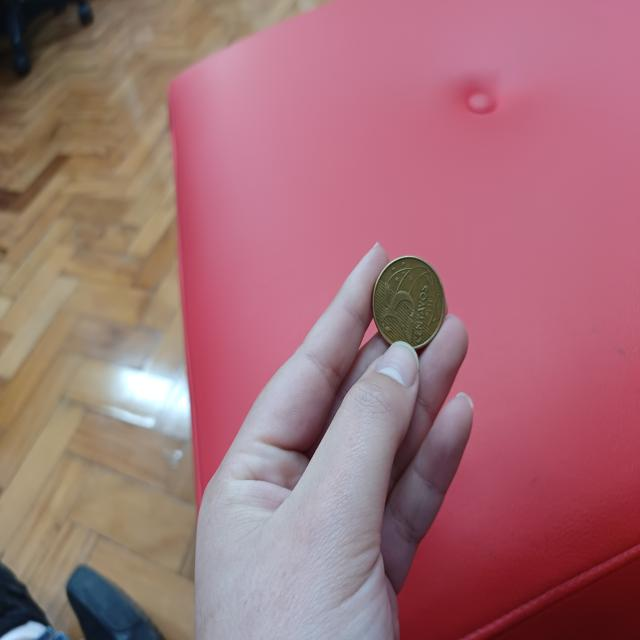25 cents: (371, 252, 454, 356)
